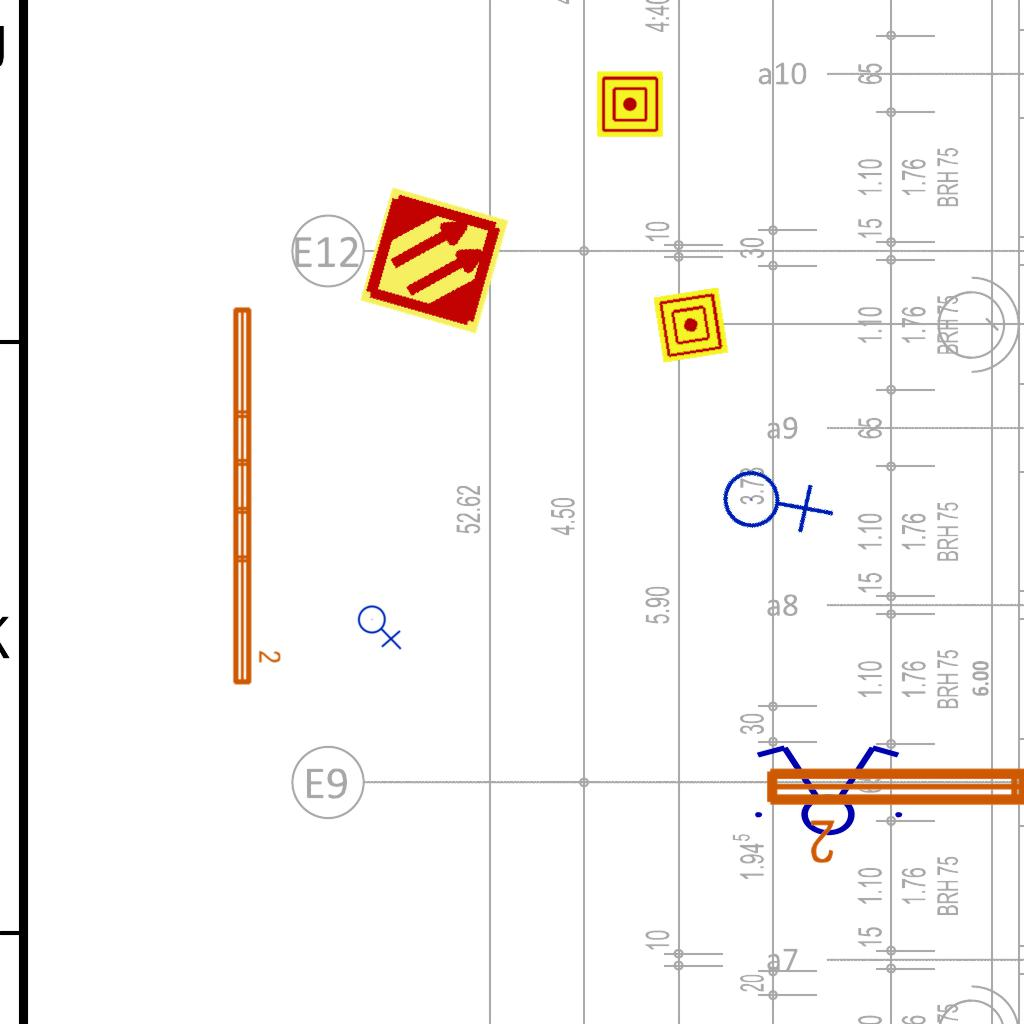ASR_Ansaugrauchmelder: (357, 183, 512, 338)
Ambulanz_Pendelleuchte_LED: (758, 756, 1024, 868), (227, 302, 283, 689)
Elektroanschluss_allgemein_230V_Geraeteanschlussdose_230V: (705, 431, 840, 567), (357, 601, 404, 650)
NAM-Nichtautomatischer_Melder: (653, 287, 729, 363), (597, 71, 663, 137)
Serienschalter: (743, 741, 911, 837)
